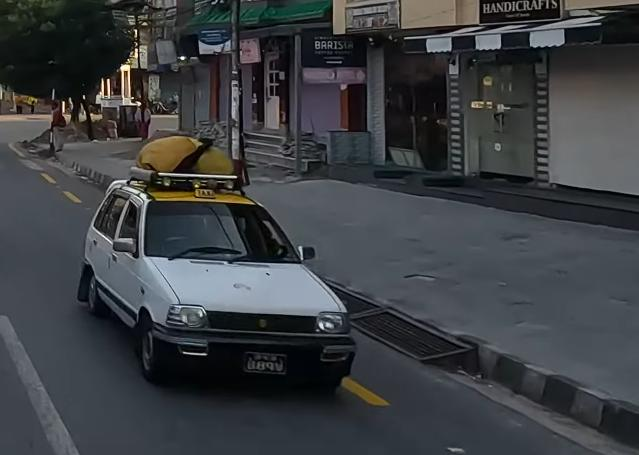taxi: (70, 159, 374, 397)
